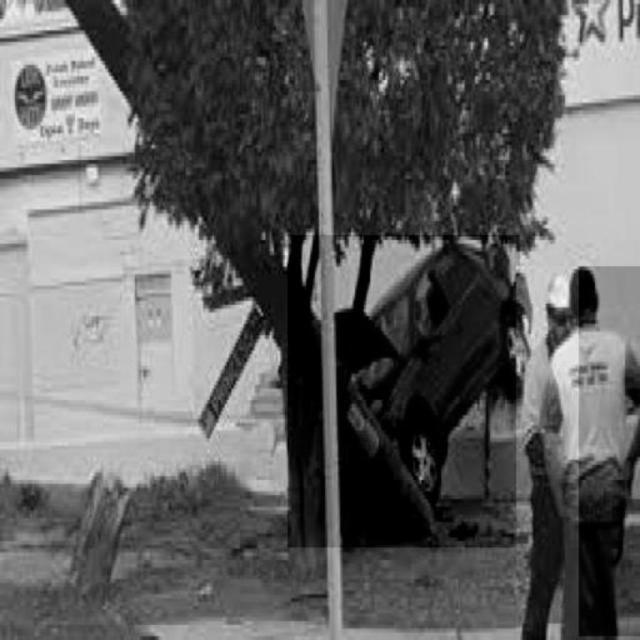accident: (288, 235, 520, 547)
person: (554, 267, 640, 637), (517, 267, 579, 637)
